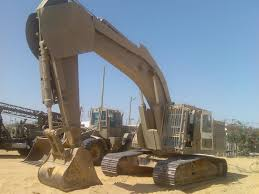excavator: (20, 1, 229, 188)
